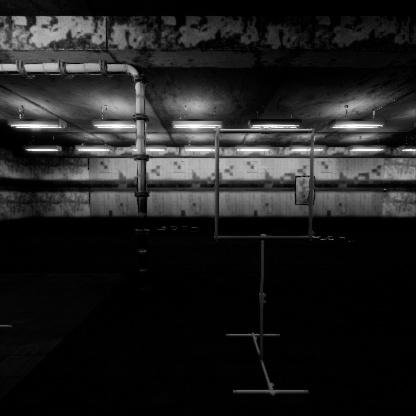gate: (215, 175, 323, 287)
